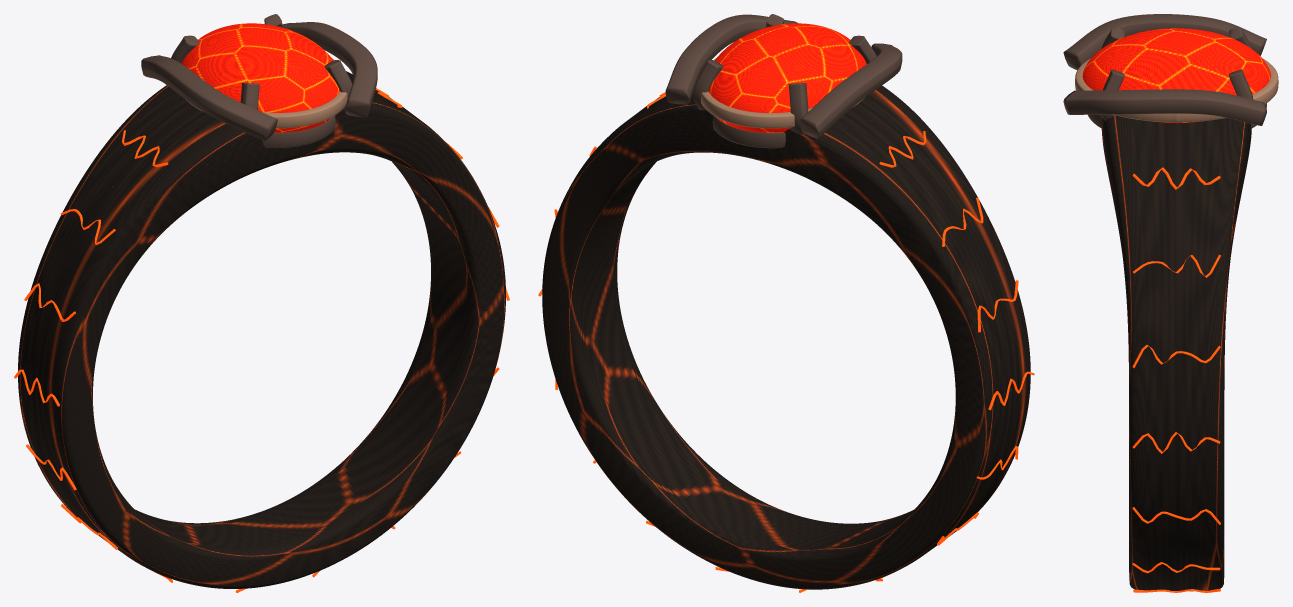
File: cinder_ring.glb
3 views of the same model, side by side, from view 1: azimuth 30°, elevation 25°; view 2: azimuth 150°, elevation 25°; view 3: azimuth 270°, elevation 25° (orthographic).
Visible parts, largest first — view 1: Cracked volcanic iron band, Cracked amber fire opal, Oxidised warm dark bronze, Recessed orange molten seams, Burnished copper edges; view 2: Cracked volcanic iron band, Cracked amber fire opal, Oxidised warm dark bronze, Recessed orange molten seams, Burnished copper edges; view 3: Cracked volcanic iron band, Oxidised warm dark bronze, Cracked amber fire opal, Recessed orange molten seams, Burnished copper edges.
Part boxes in pixels (x1=…): Cracked volcanic iron band: x1=18, y1=71, x2=505, y2=588; Cracked amber fire opal: x1=182, y1=23, x2=339, y2=132; Oxidised warm dark bronze: x1=141, y1=14, x2=377, y2=147; Recessed orange molten seams: x1=14, y1=88, x2=509, y2=592; Burnished copper edges: x1=185, y1=58, x2=347, y2=128; Cracked volcanic iron band: x1=542, y1=85, x2=1030, y2=589; Cracked amber fire opal: x1=708, y1=23, x2=866, y2=132; Oxidised warm dark bronze: x1=665, y1=14, x2=902, y2=148; Recessed orange molten seams: x1=538, y1=92, x2=1034, y2=592; Burnished copper edges: x1=701, y1=58, x2=865, y2=128; Cracked volcanic iron band: x1=1101, y1=115, x2=1251, y2=591; Oxidised warm dark bronze: x1=1063, y1=14, x2=1266, y2=128; Cracked amber fire opal: x1=1082, y1=28, x2=1270, y2=123; Recessed orange molten seams: x1=1132, y1=167, x2=1220, y2=592; Burnished copper edges: x1=1075, y1=58, x2=1278, y2=122.
Size of the model in its own units: 0.024 by 0.0269 by 0.00993.
5 materials, 2 textured.
